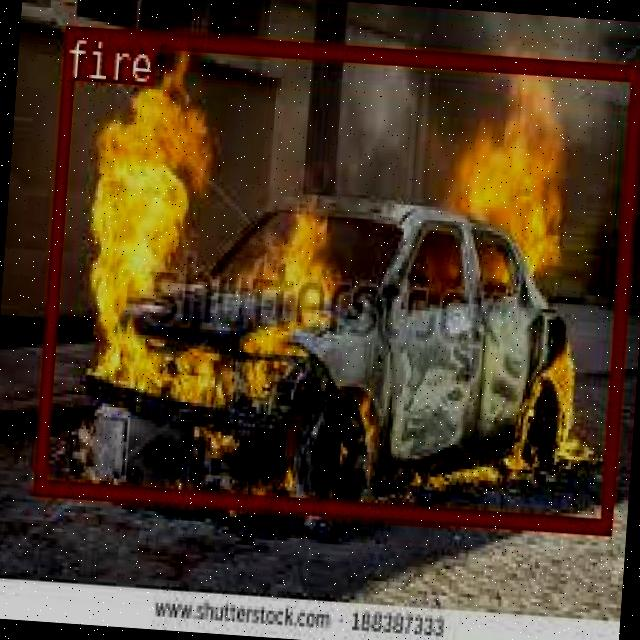fire: (31, 24, 640, 531)
